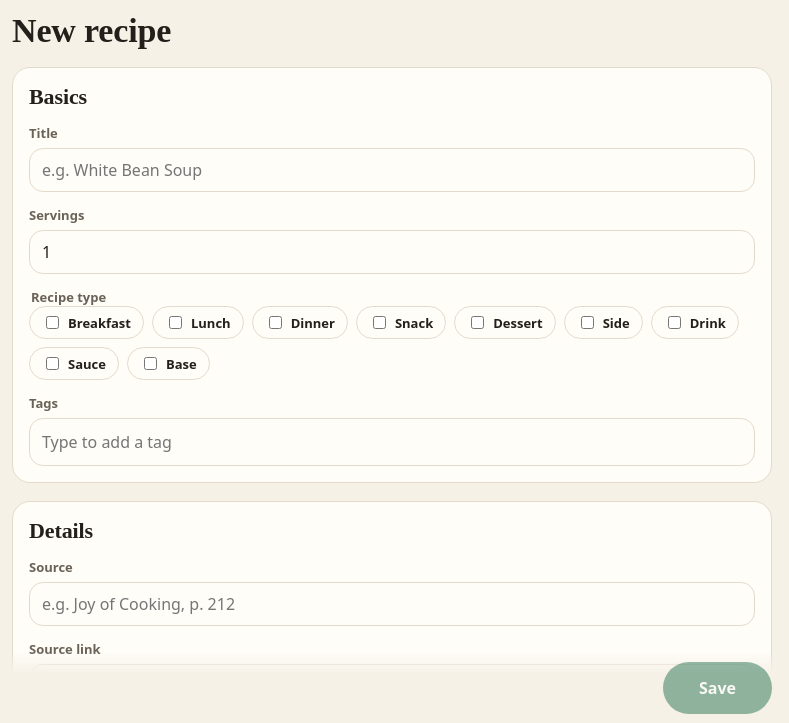
it: RecipeEdit › keeps Save disabled until a title is entered
expect the button "Save" is disabled: met, box [663,662,772,714]
Type "Now valid" into the field labelled "Title" at (392, 170), box [29,148,755,192]
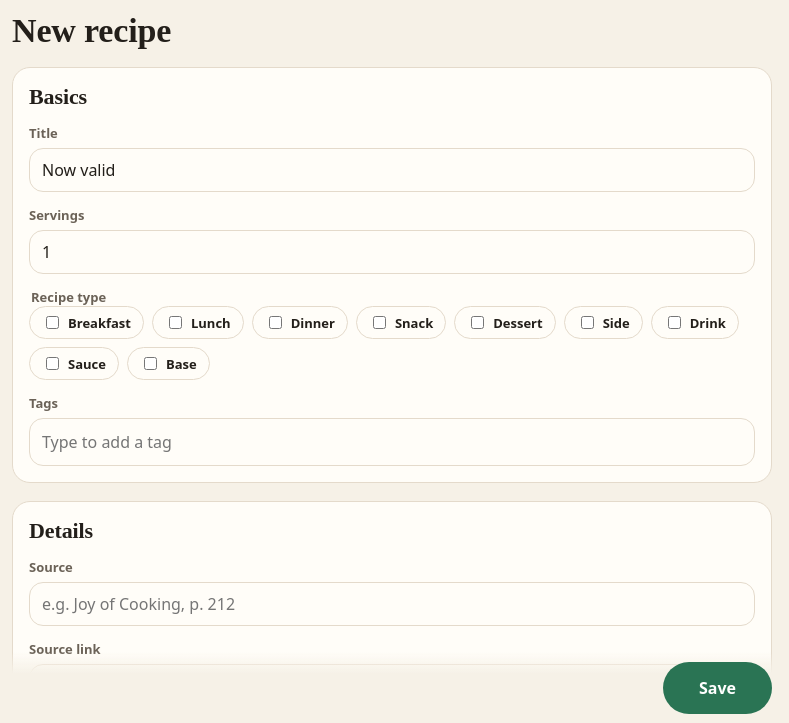
expect the button "Save" is enabled: met, box [663,662,772,714]
